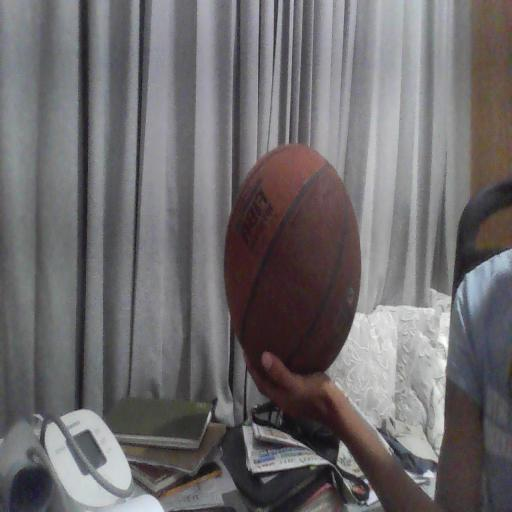basketball: (224, 144, 360, 374)
